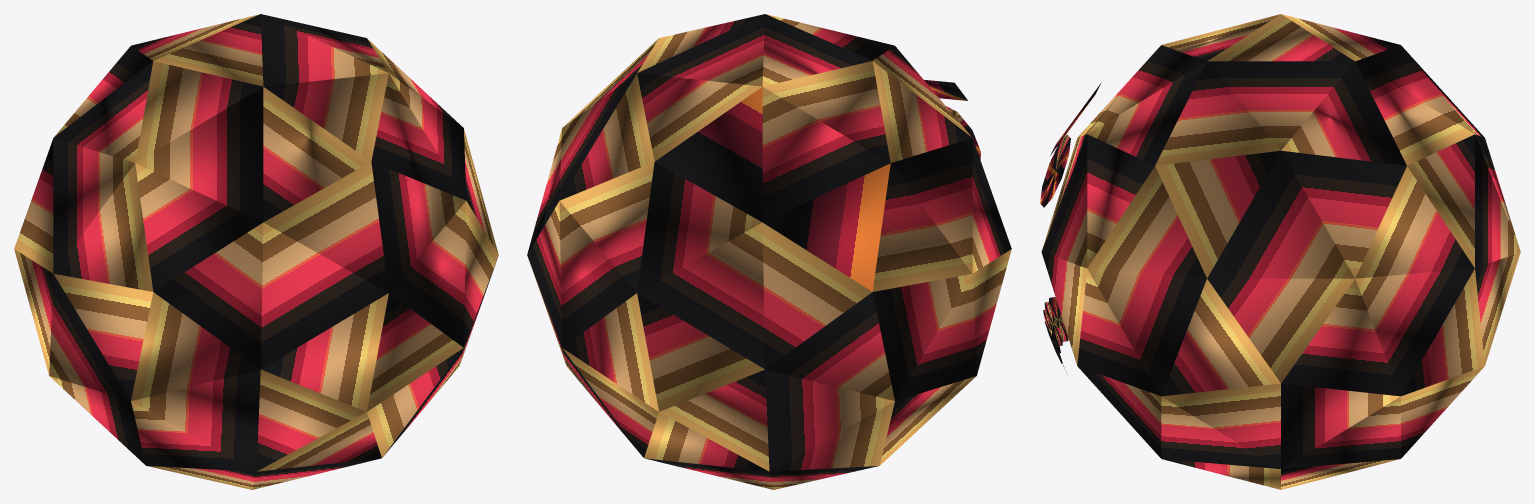
The model's file is angry.glb.
3 renders of one model, left to right at view 1: azimuth 30°, elevation 25°; view 2: azimuth 150°, elevation 25°; view 3: azimuth 270°, elevation 25°, orthographic.
Parts seen in each view (by area): view 1: angry; view 2: angry; view 3: angry.
Part boxes in pixels (x1=…): angry: x1=14, y1=14, x2=498, y2=489; angry: x1=527, y1=14, x2=1011, y2=489; angry: x1=1040, y1=14, x2=1520, y2=489.
Bounding box in the file's own units: 1 × 1 × 1.
1 material, 1 textured.
